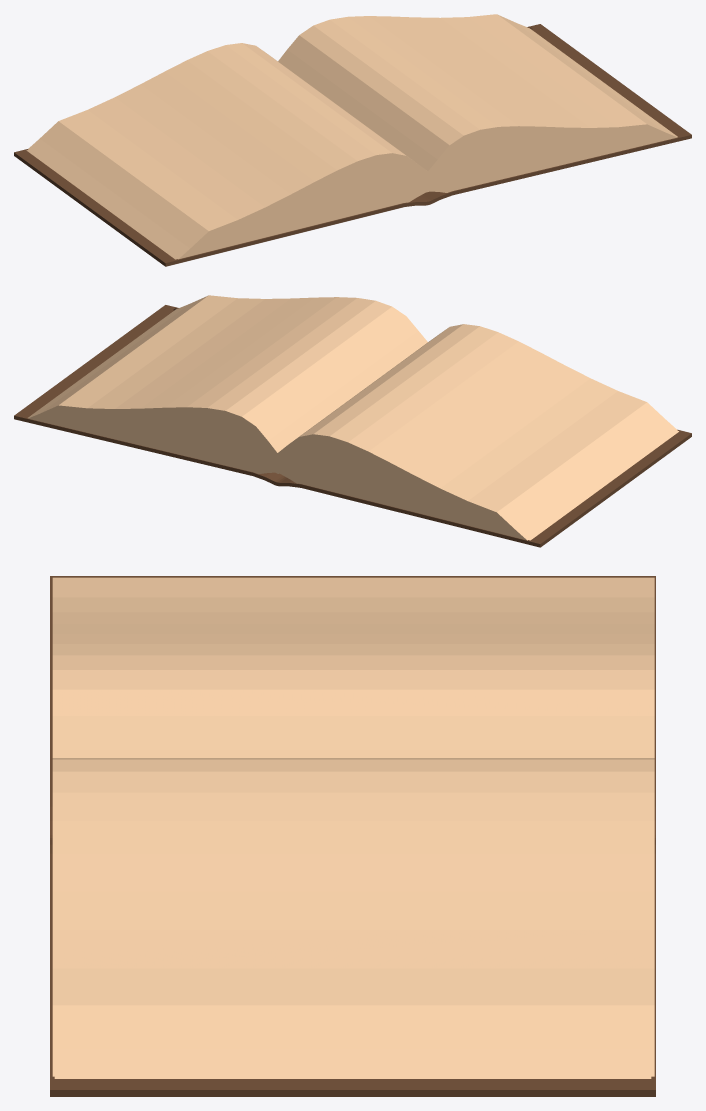
Rendered from book.fbx.
The picture shows the model from 3 angles, top to bottom: view 1: azimuth 30°, elevation 25°; view 2: azimuth 150°, elevation 25°; view 3: azimuth 270°, elevation 25°; orthographic projection. The views are drawn at different scales.
Parts seen in each view (by area): view 1: bOOK; view 2: bOOK; view 3: bOOK.
Boxes of the visible parts, x1=… form: bOOK: x1=14, y1=14, x2=691, y2=266; bOOK: x1=14, y1=295, x2=691, y2=547; bOOK: x1=50, y1=576, x2=655, y2=1096.
Bounding box in the file's own units: 1039 × 117 × 518.
